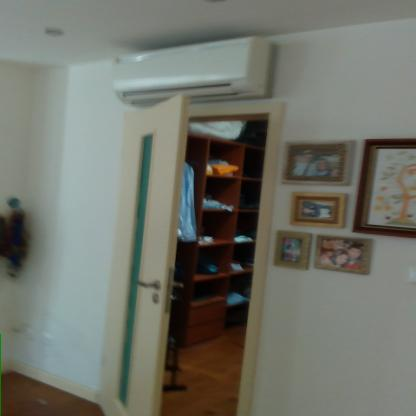semi: (111, 98, 290, 416)
